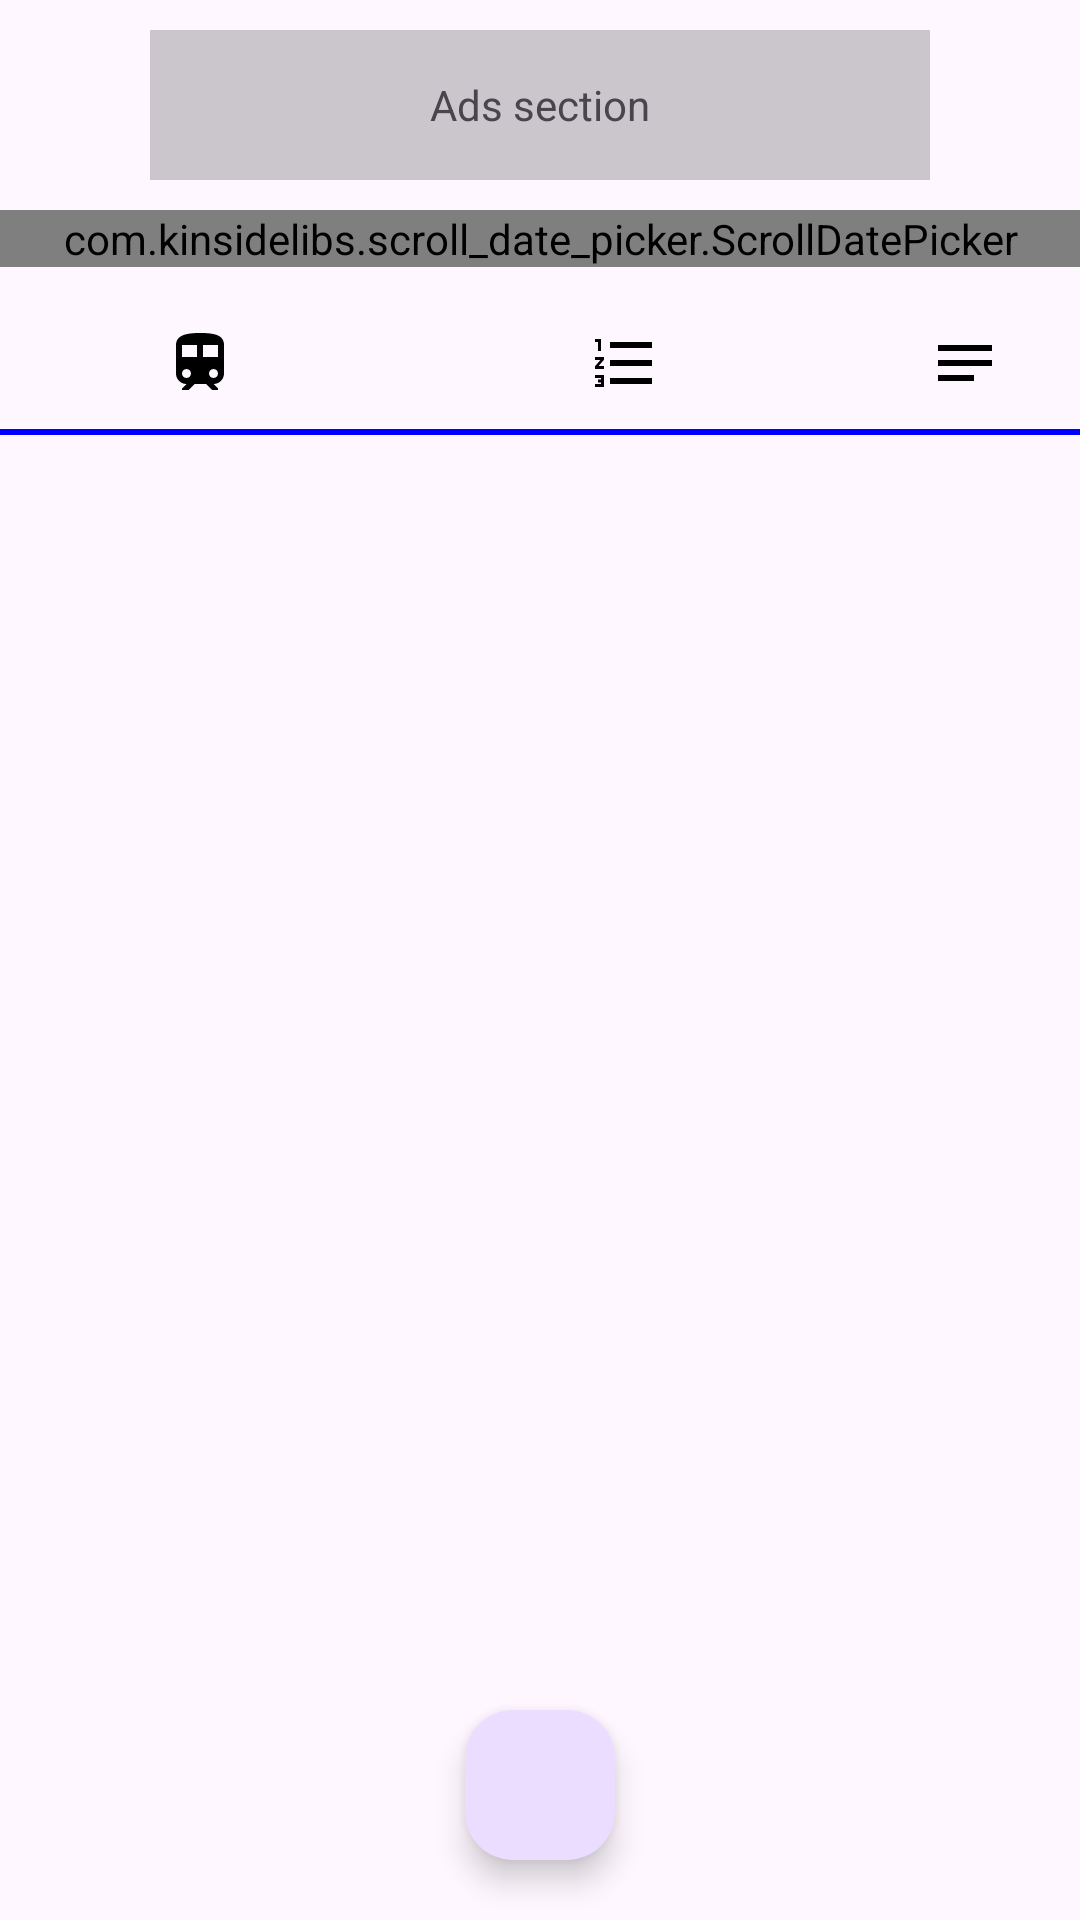

Named icons in this screenshot (1080px x 1920px) and their bounding boxes, (x1, y1, x2, y2):
notes: (938, 345, 992, 381)
train: (176, 333, 224, 390)
